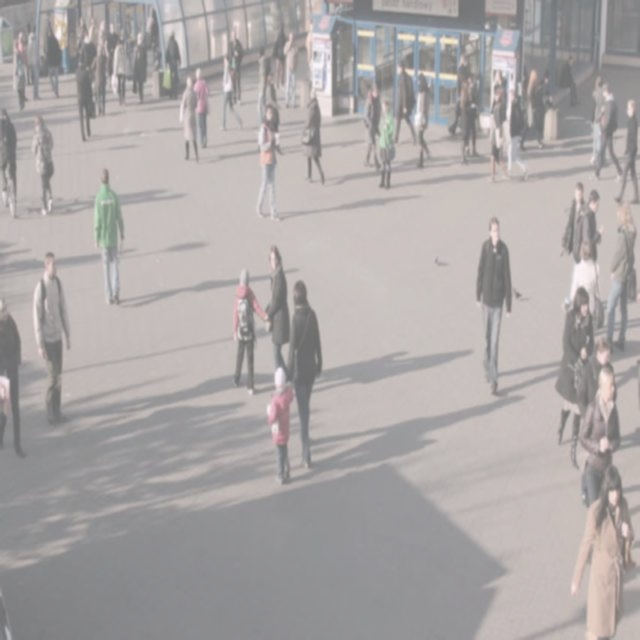pessoa: (568, 462, 636, 638), (552, 284, 596, 471), (31, 248, 73, 429), (473, 214, 514, 398), (285, 278, 324, 471), (576, 332, 618, 507), (578, 364, 623, 507), (600, 196, 638, 357), (230, 264, 268, 398), (92, 166, 126, 306), (0, 294, 28, 460), (558, 180, 589, 319), (263, 244, 291, 388), (586, 81, 624, 183), (254, 101, 284, 224), (266, 364, 296, 486), (612, 96, 640, 205), (568, 238, 601, 330), (29, 111, 56, 218), (502, 86, 530, 185), (300, 85, 326, 187), (390, 56, 418, 148), (486, 85, 512, 183), (413, 69, 434, 171), (217, 51, 243, 132), (530, 65, 554, 151), (579, 188, 605, 266), (74, 53, 96, 144), (179, 72, 200, 166), (516, 66, 538, 154), (376, 96, 396, 192), (362, 79, 382, 172), (0, 106, 18, 206), (192, 65, 210, 151), (462, 74, 480, 160), (590, 74, 606, 170), (282, 28, 300, 110), (24, 22, 42, 102), (90, 41, 108, 119), (44, 24, 62, 100), (164, 28, 182, 103), (558, 50, 580, 110), (112, 36, 130, 108), (516, 69, 530, 159), (228, 29, 244, 107), (104, 20, 120, 91), (270, 20, 286, 91), (134, 30, 148, 104), (458, 80, 469, 166), (0, 578, 15, 639), (148, 7, 162, 72), (256, 42, 267, 124), (11, 38, 26, 98), (634, 281, 640, 427), (304, 16, 316, 88), (489, 57, 516, 88), (14, 52, 26, 114), (79, 28, 97, 68), (14, 20, 31, 60), (445, 98, 460, 142), (88, 15, 106, 42), (116, 12, 134, 39), (452, 50, 472, 74), (266, 72, 278, 105), (75, 16, 85, 47), (102, 56, 109, 90), (91, 68, 97, 107), (488, 86, 496, 115), (454, 74, 462, 98), (26, 64, 34, 87), (304, 89, 311, 102), (84, 20, 88, 30)
